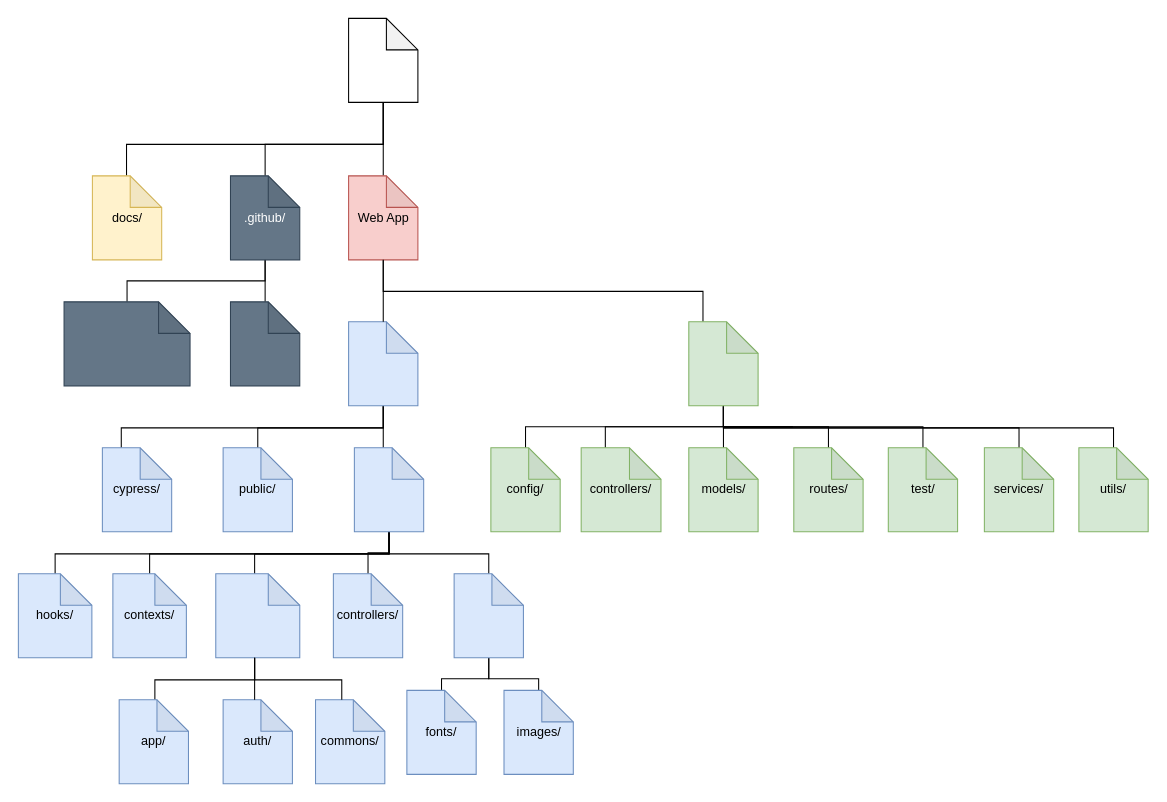
Image size: 1167x802. Some labels were removed from this diagram. The box of each missing label's shape, as (x1, y1, x2, y2) in pixels:
backend/: (688, 321, 758, 406)
components/: (215, 573, 300, 658)
frontend/: (348, 321, 418, 406)
ISSUE_TEMPLATE/: (63, 301, 190, 386)
ROOT: (348, 17, 418, 102)
src/: (353, 447, 424, 532)
static/: (453, 573, 523, 658)
workflows/: (229, 301, 300, 386)
